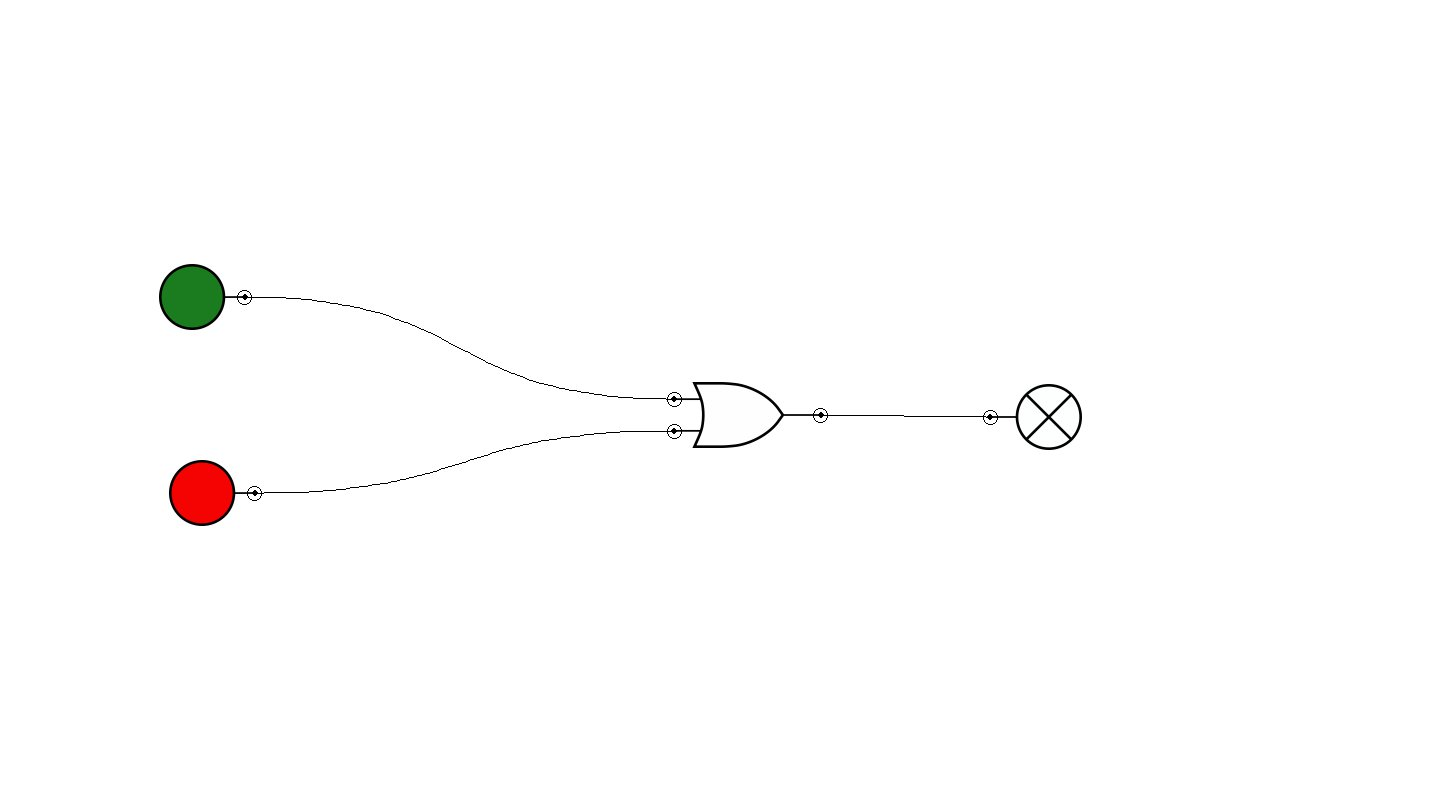bulb: (983, 384, 1082, 450)
or: (667, 382, 828, 448)
switch_False: (169, 460, 262, 526)
switch_True: (159, 264, 252, 330)
